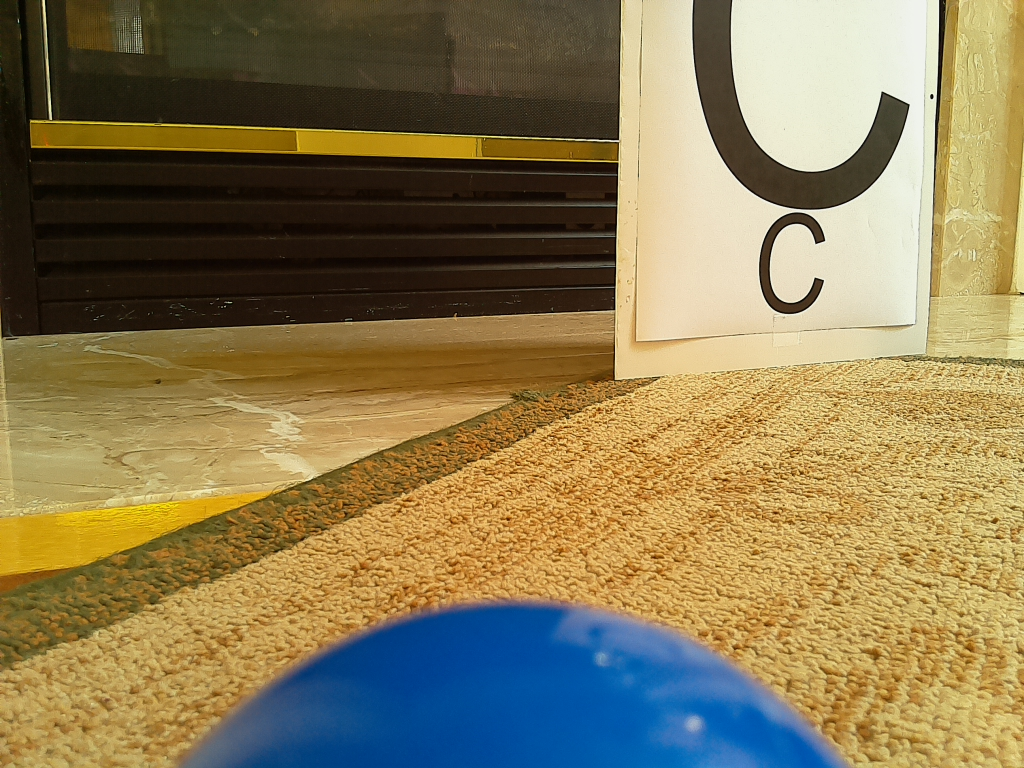letter: (759, 214, 826, 314)
